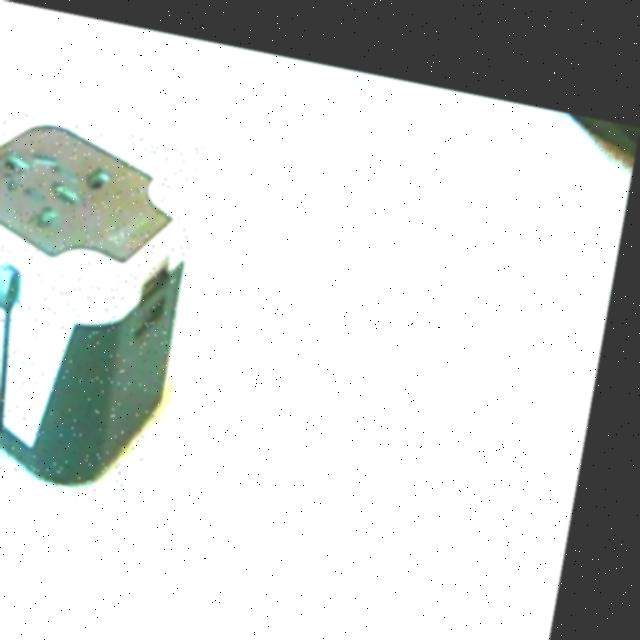adapter: (0, 104, 210, 492)
